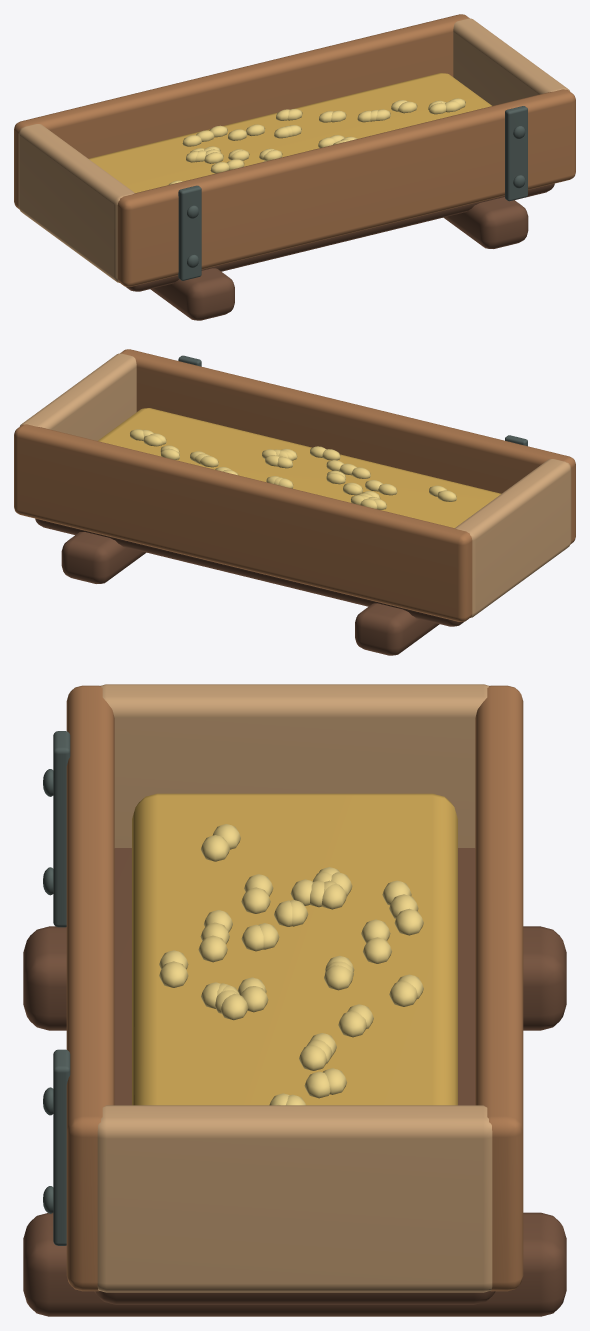
File: pig_feeder.glb
3 views of the same model, one above another, from view 1: azimuth 30°, elevation 25°; view 2: azimuth 150°, elevation 25°; view 3: azimuth 270°, elevation 25° (orthographic). The views are drawn at different scales.
Parts seen in each view (by area): view 1: FeedTroughStatic, FeedGrain; view 2: FeedTroughStatic, FeedGrain; view 3: FeedTroughStatic, FeedGrain.
Boxes of the visible parts, left/top/right/bottom form: FeedTroughStatic: left=14, top=14, right=575, bottom=320; FeedGrain: left=88, top=73, right=491, bottom=192; FeedTroughStatic: left=14, top=349, right=575, bottom=655; FeedGrain: left=98, top=408, right=501, bottom=527; FeedTroughStatic: left=23, top=684, right=566, bottom=1316; FeedGrain: left=132, top=793, right=457, bottom=1105.
Size of the model in its own units: 1.65 by 0.45 by 0.85.
